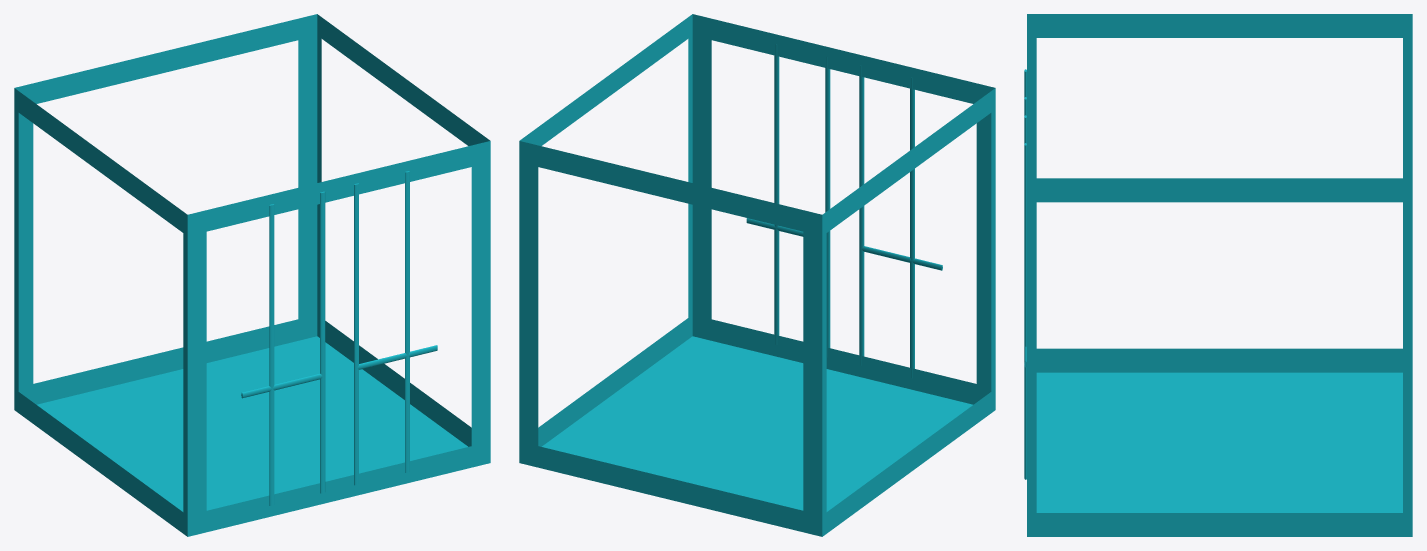
3 renders of one model, left to right at view 1: azimuth 30°, elevation 25°; view 2: azimuth 150°, elevation 25°; view 3: azimuth 270°, elevation 25°, orthographic. The views are drawn at different scales.
Parts seen in each view (by area): view 1: group_0 (×5); view 2: group_0 (×5); view 3: group_0 (×2).
Part boxes in pixels (box(x1,y1,x2,y2)): group_0 (×5): box(14, 14, 490, 536); group_0 (×5): box(519, 14, 995, 536); group_0 (×2): box(1024, 14, 1412, 536).
Size of the model in its own units: 38.74 by 38.62 by 39.37.
